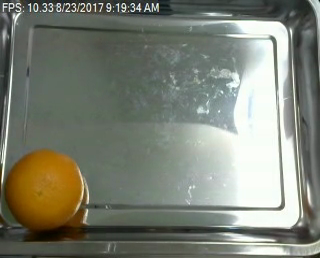Orange: (5, 149, 84, 229)
